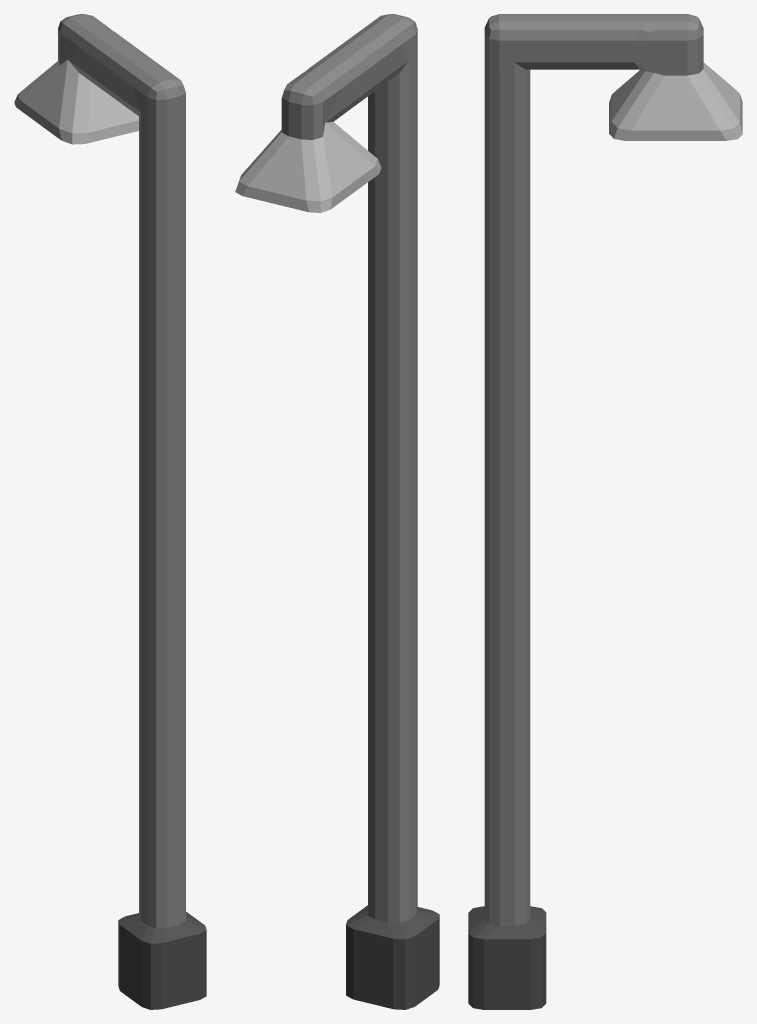
Rendered from Lamppost.fbx.
3 views of the same model, side by side, from view 1: azimuth 30°, elevation 25°; view 2: azimuth 150°, elevation 25°; view 3: azimuth 270°, elevation 25° (orthographic). The views are drawn at different scales.
Parts seen in each view (by area): view 1: Cube; view 2: Cube; view 3: Cube.
Boxes of the visible parts, x1,y1,x2,y2 form: Cube: (14, 14, 206, 1009); Cube: (235, 14, 439, 1009); Cube: (468, 14, 742, 1009).
Size of the model in its own units: 0.4988 by 4.95 by 1.26.
1 material, 1 textured.
